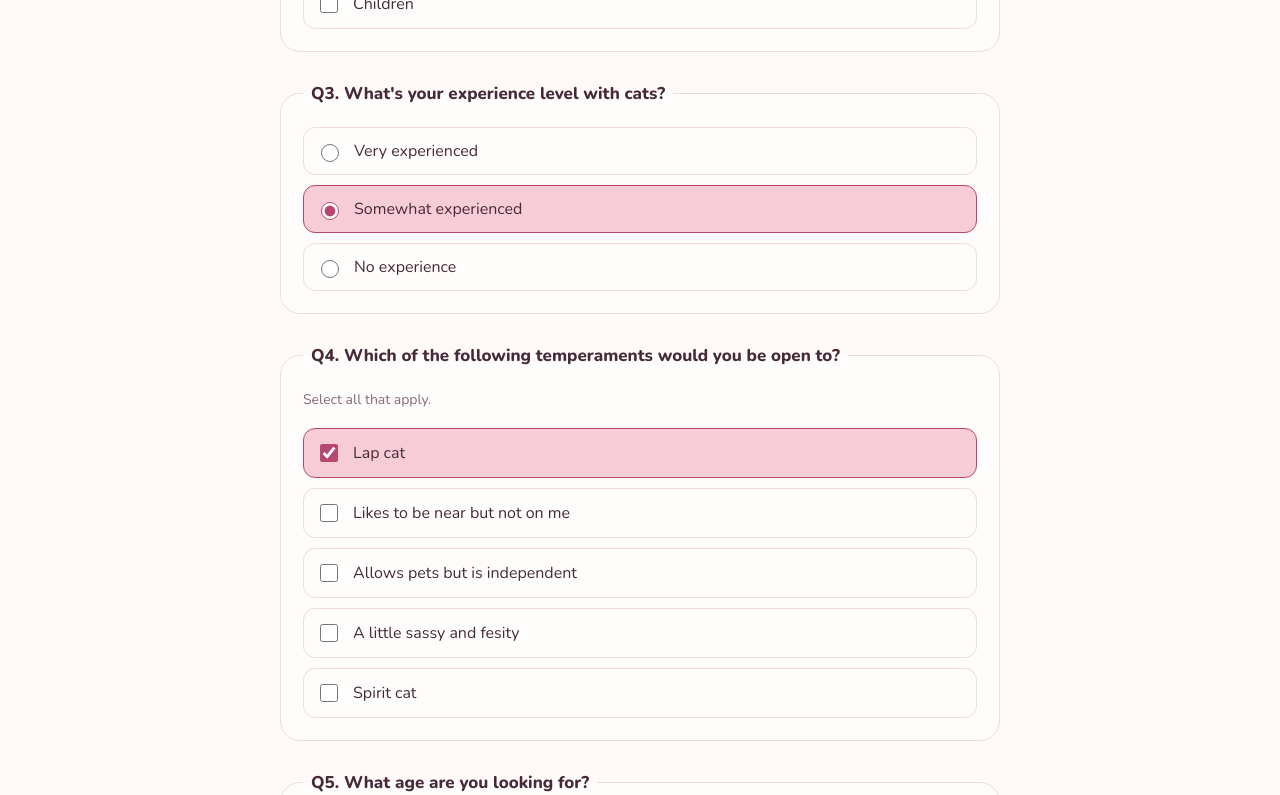
it: guest adopter quiz › asks for a current option when saved answers contain old free text
(page scrolled)
Submit the form named "Review my answers"
(page scrolled)
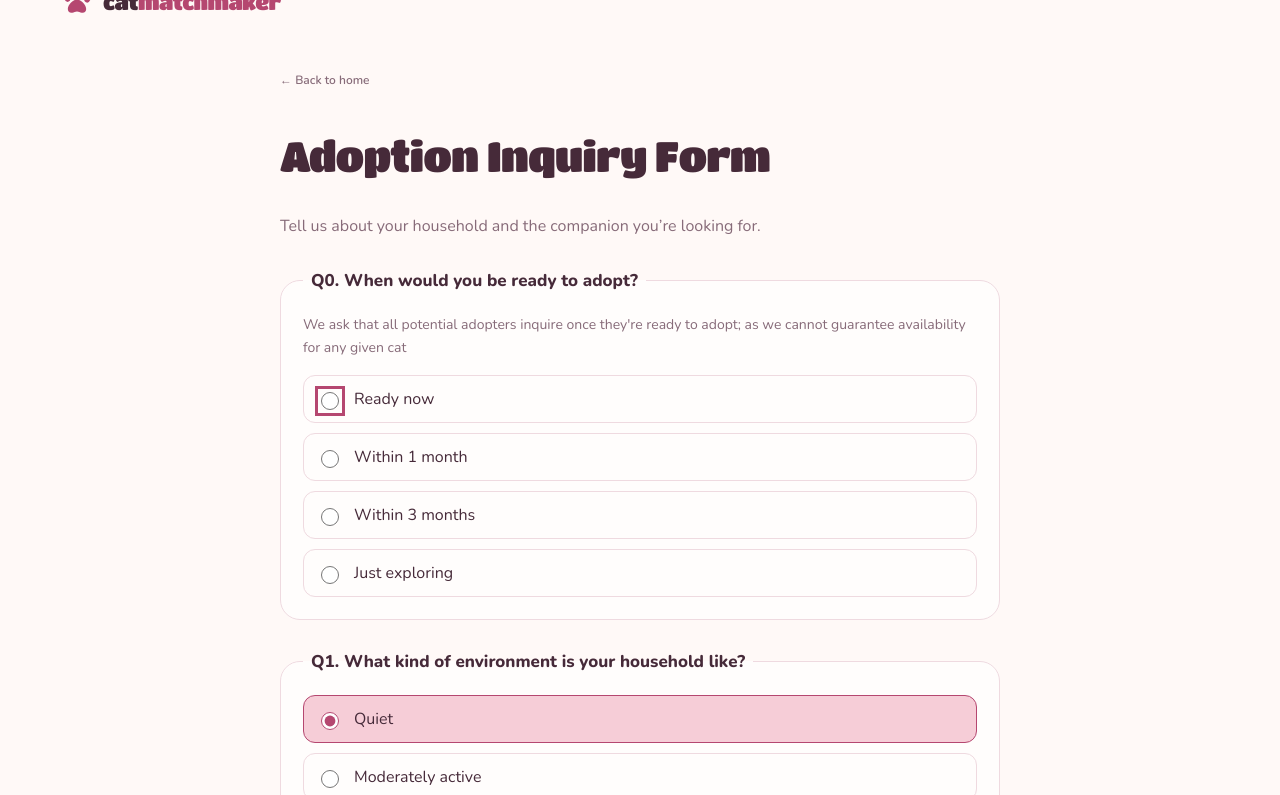
Click the radio button labelled "Within 1 month": point(330, 459) top-left (321, 450), bottom-right (339, 468)
(page scrolled)
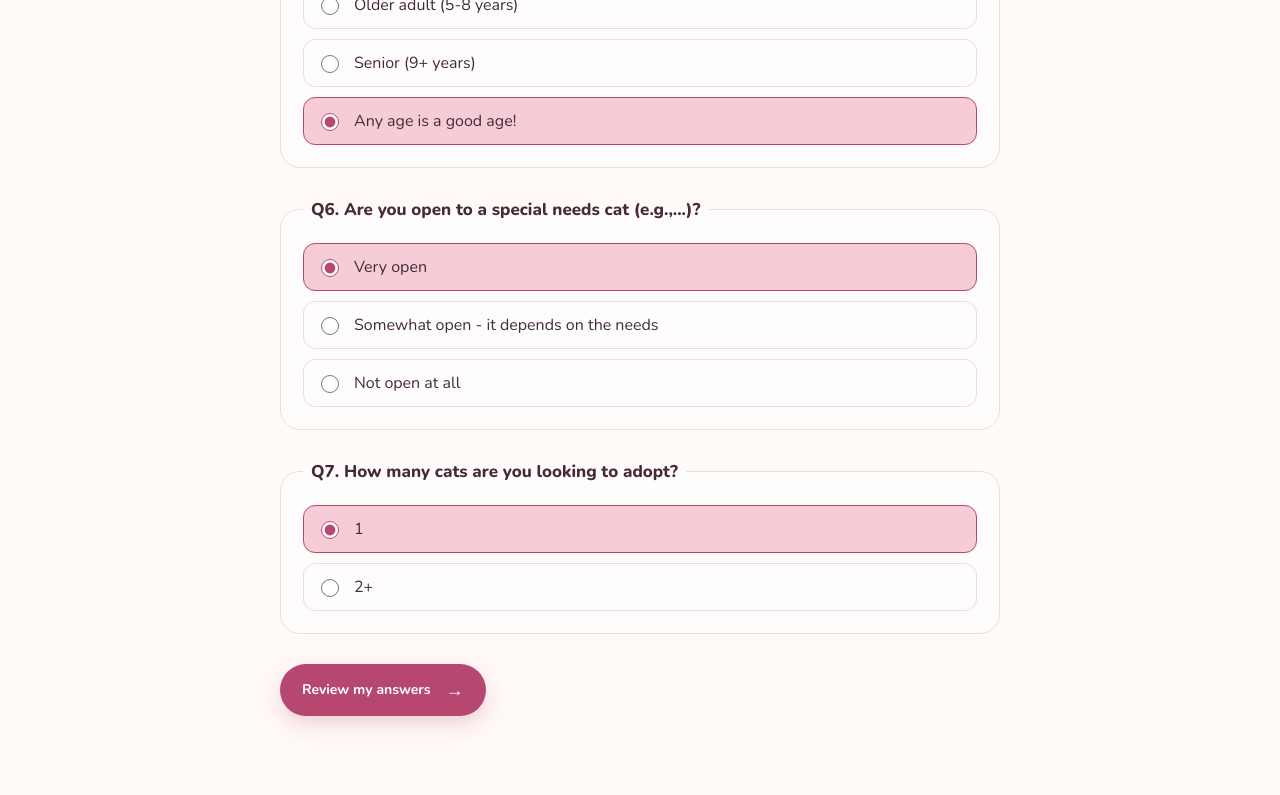
Click the button "Review my answers →": point(383, 690) top-left (280, 664), bottom-right (486, 716)
(page scrolled)
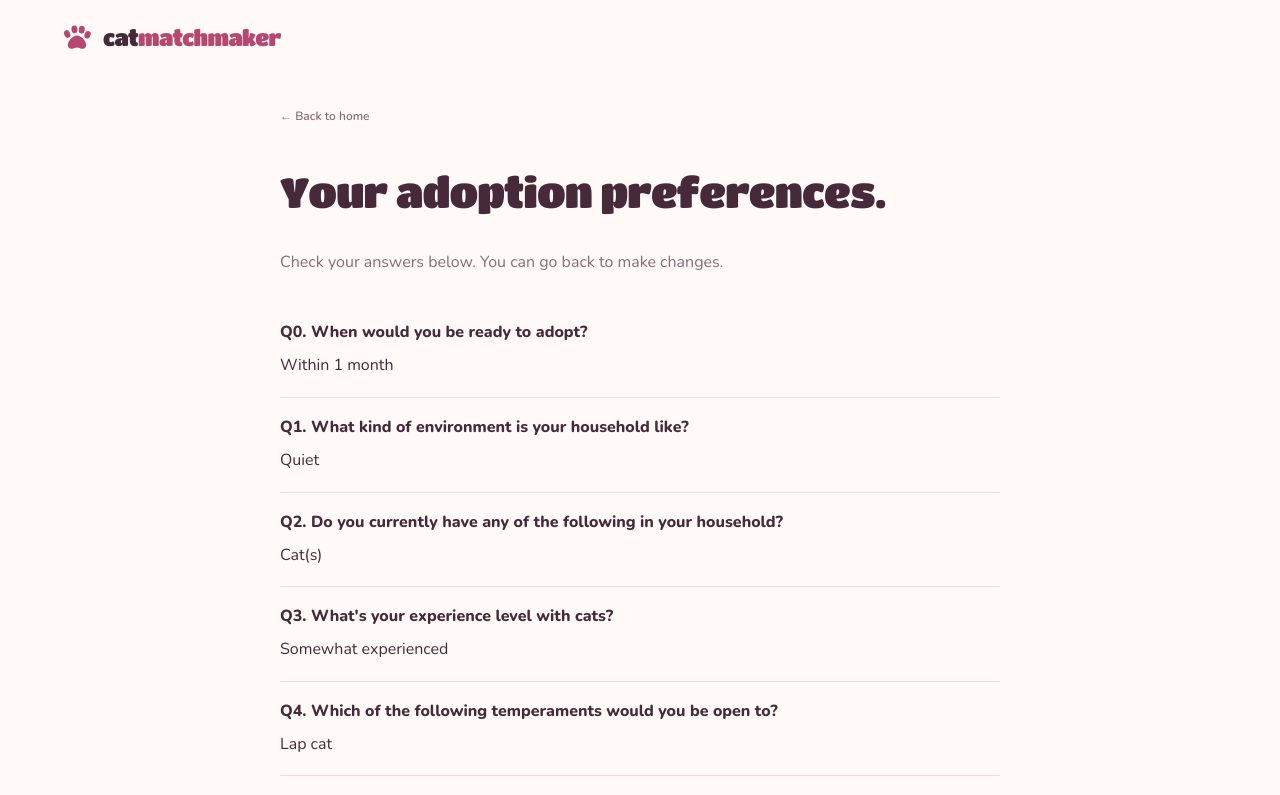
Result: the heading "Your adoption preferences." is shown at top-left (280, 167), bottom-right (886, 215)
